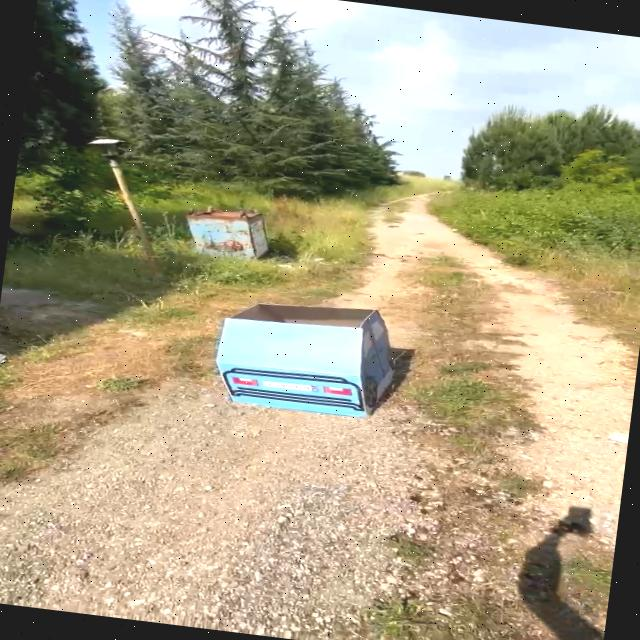blue_car: (206, 270, 409, 442)
